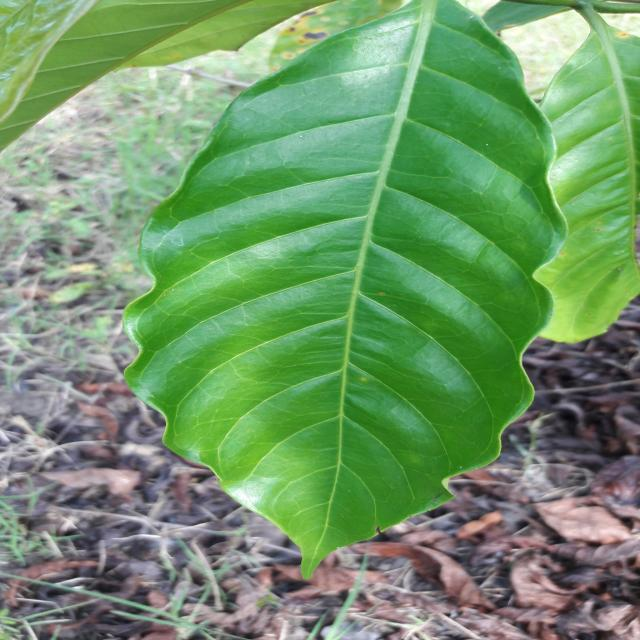Sanas: (122, 0, 566, 582)
